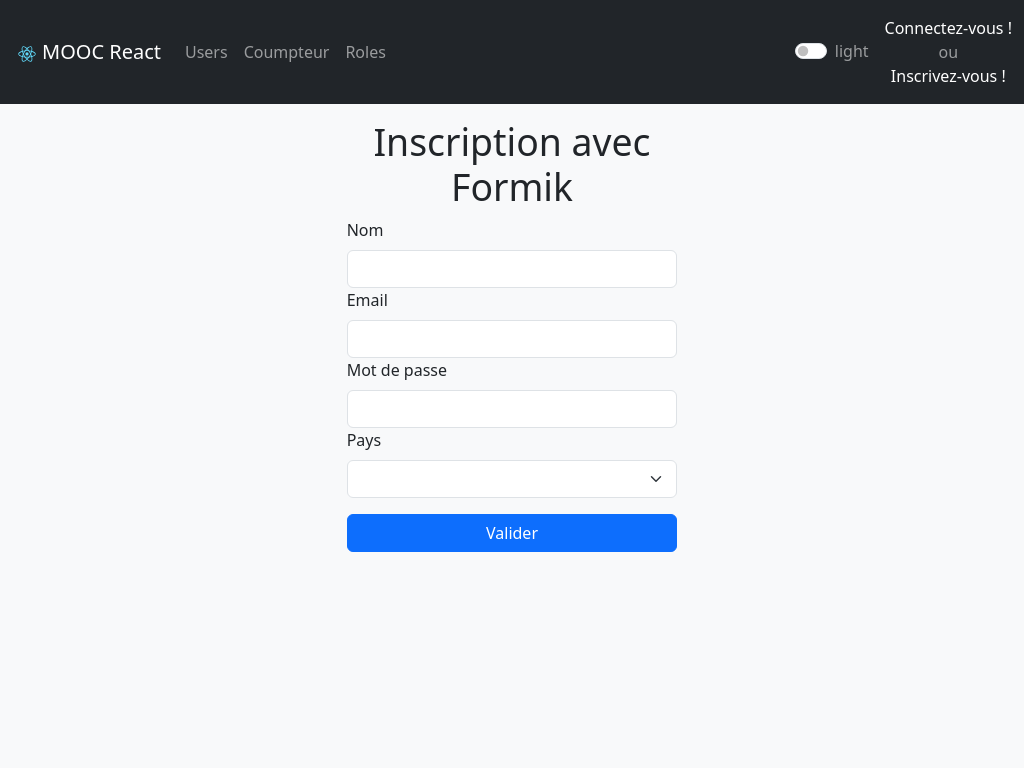
Inscription › devrait afficher une erreur si pays invalide
Type "TestName" into the field with id "name" at (513,269), box [347,250,678,288]
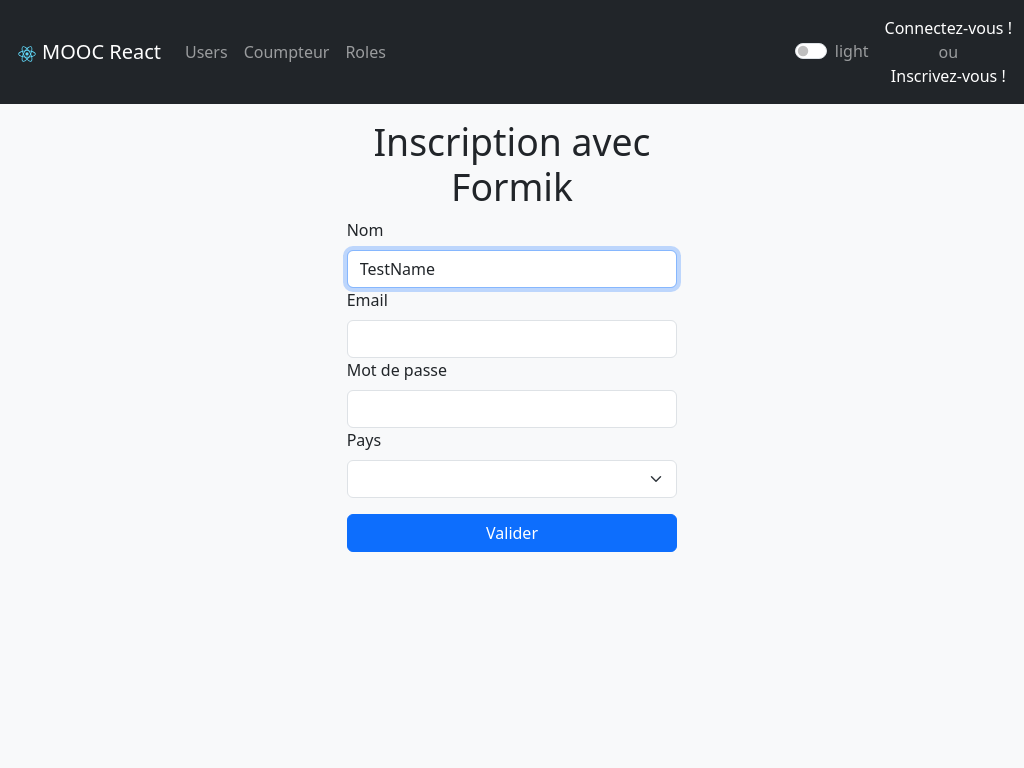
Type "test@test.fr" into the field with id "email" at (513,339), box [347,320,678,358]
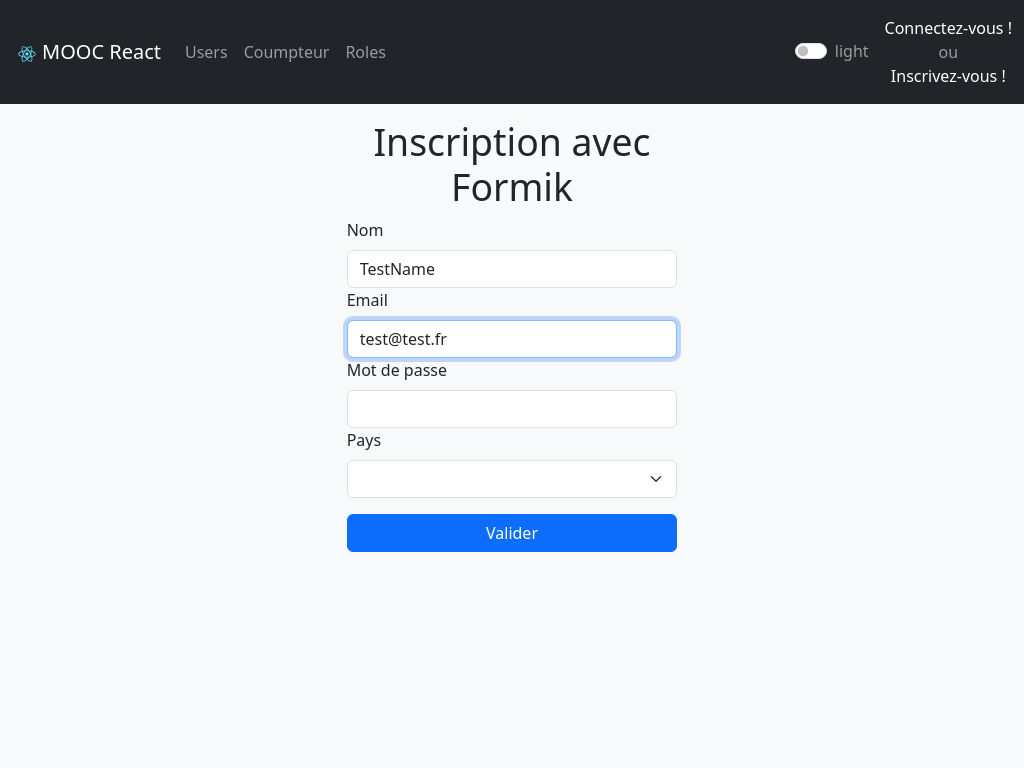
Type "12345678" into the password field labelled "Mot de passe" at (513,409), box [347,390,678,428]
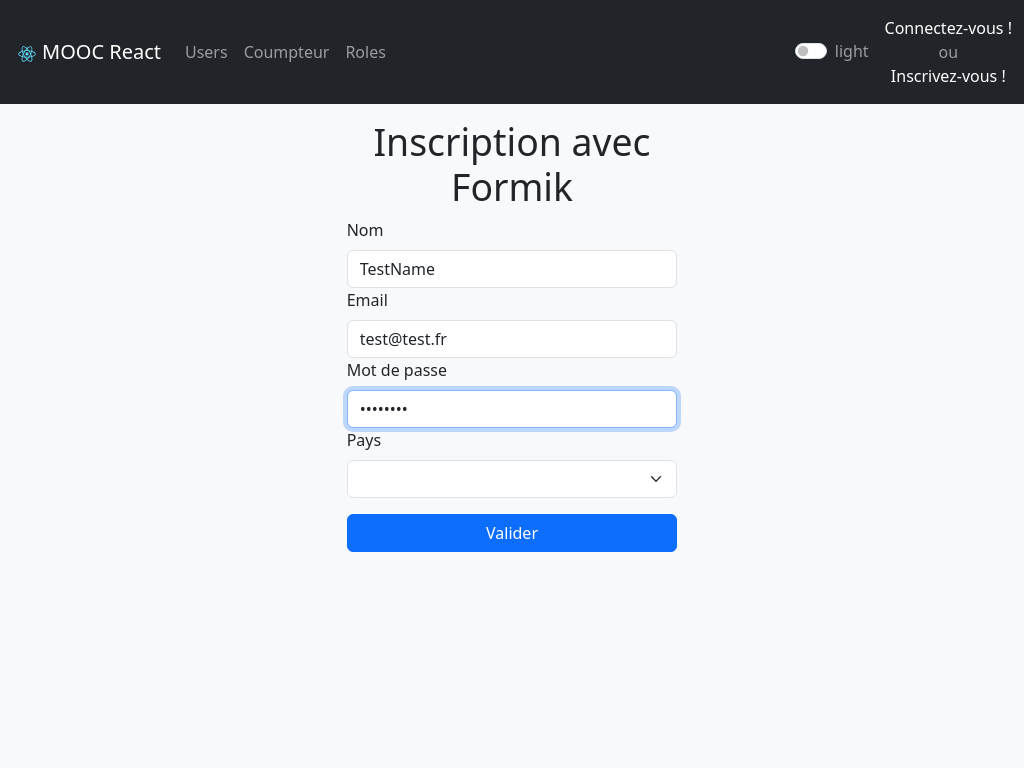
Click the submit button at (513,533), box [347,514,678,552]
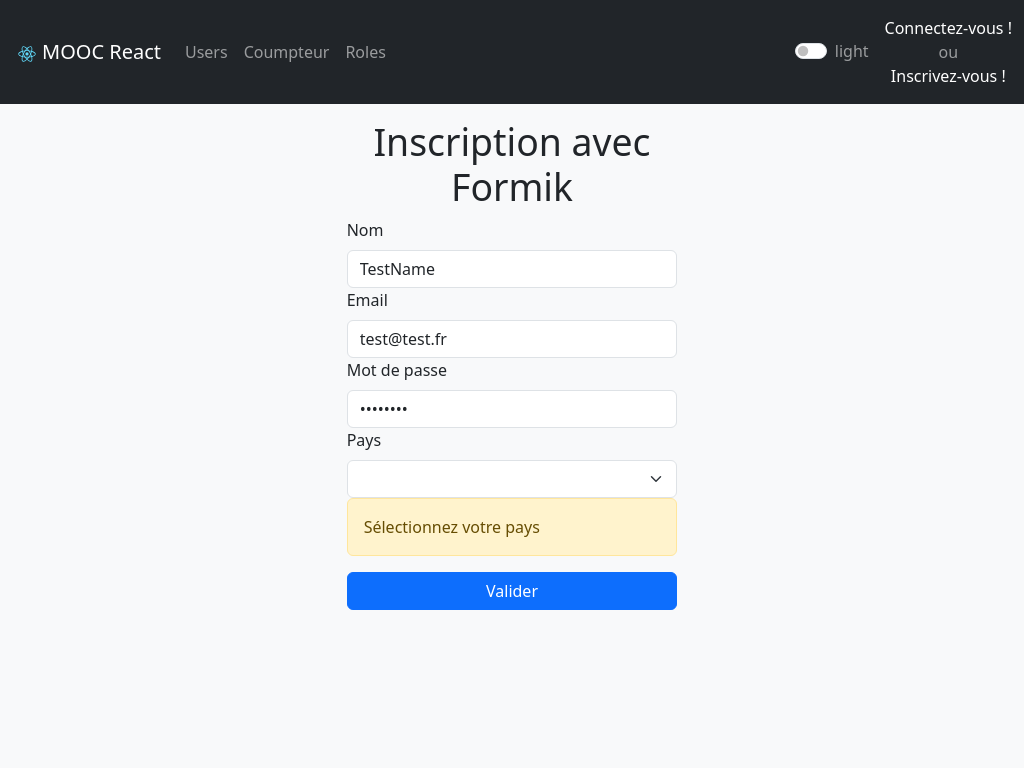
Expected: the text with class "alert-warning" reads "Sélectionnez votre pays", [347,498,678,556]
